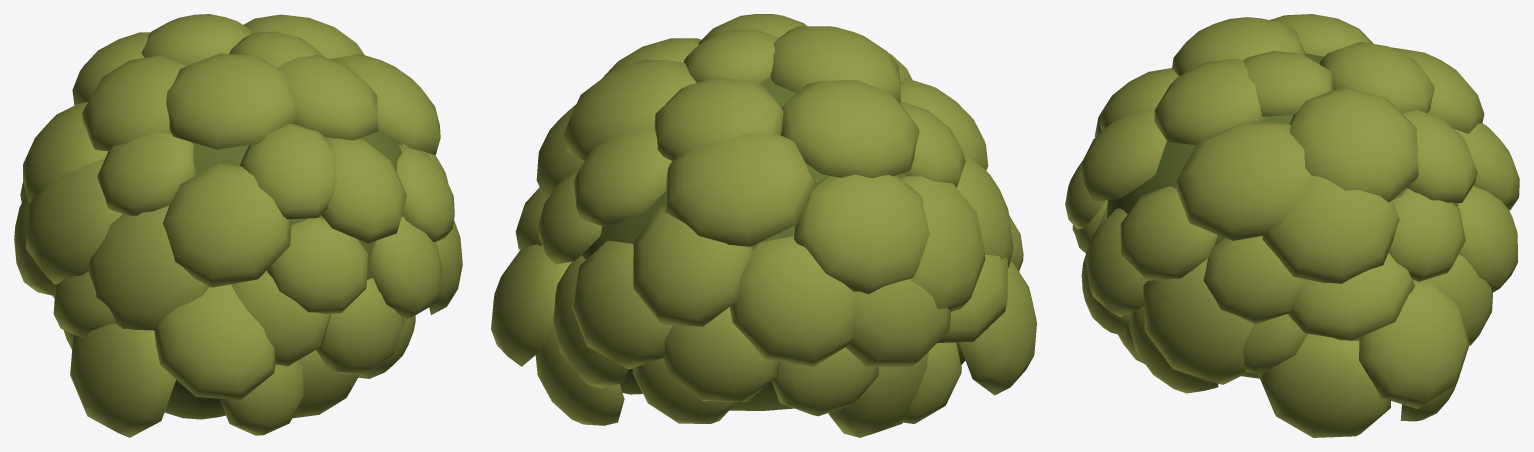
Rendered from HEARTH_BUSH.glb.
The picture shows the model from 3 angles, left to right: view 1: azimuth 30°, elevation 25°; view 2: azimuth 150°, elevation 25°; view 3: azimuth 270°, elevation 25°; orthographic projection. The views are drawn at different scales.
Visible parts, largest first — view 1: bush_leaves, bush_core; view 2: bush_leaves, bush_core; view 3: bush_leaves, bush_core.
Boxes of the visible parts, x1,y1,x2,y2 form: bush_leaves: (14,14,462,437); bush_core: (164,129,402,419); bush_leaves: (491,14,1036,437); bush_core: (582,77,965,410); bush_leaves: (1065,14,1519,437); bush_core: (1107,53,1458,378).
Bounding box in the file's own units: 5.87 × 4.68 × 5.83.
